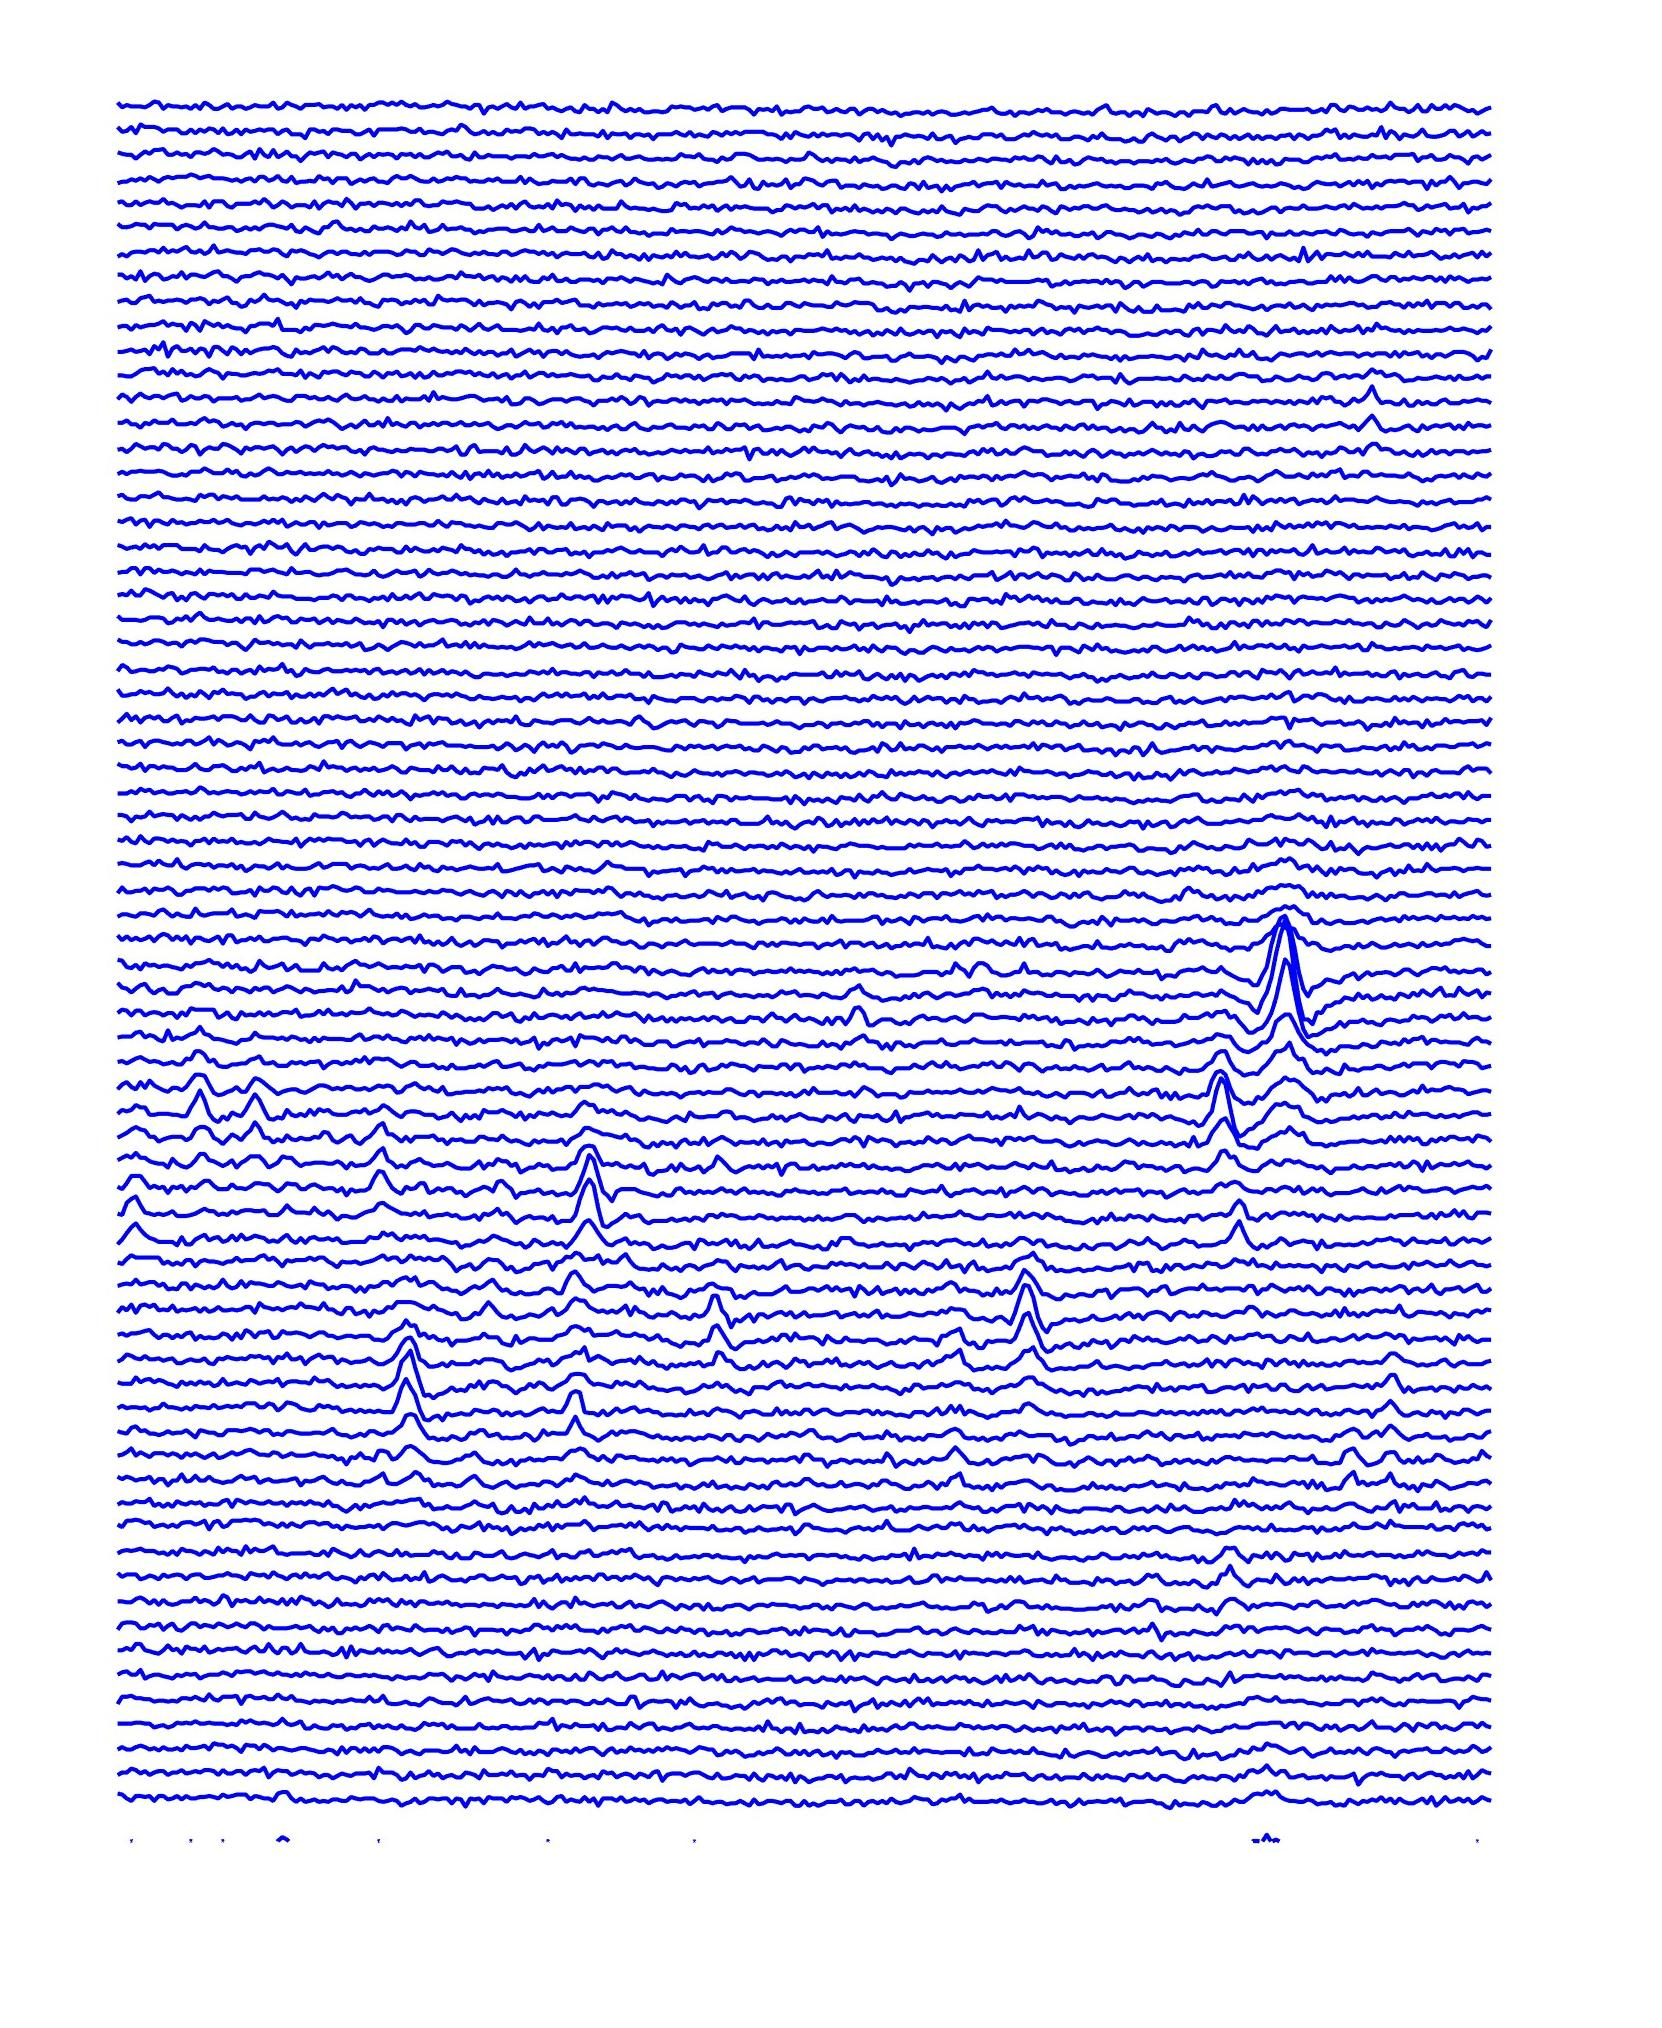defect: (1337, 1282, 1413, 1523), (1260, 901, 1350, 1076), (381, 1305, 470, 1457), (172, 1053, 283, 1166), (977, 1246, 1057, 1383), (344, 1090, 413, 1226), (1179, 1058, 1256, 1172), (1189, 1516, 1263, 1630), (561, 1134, 621, 1272), (547, 1351, 605, 1455), (700, 1273, 746, 1390), (1206, 1182, 1265, 1268)
